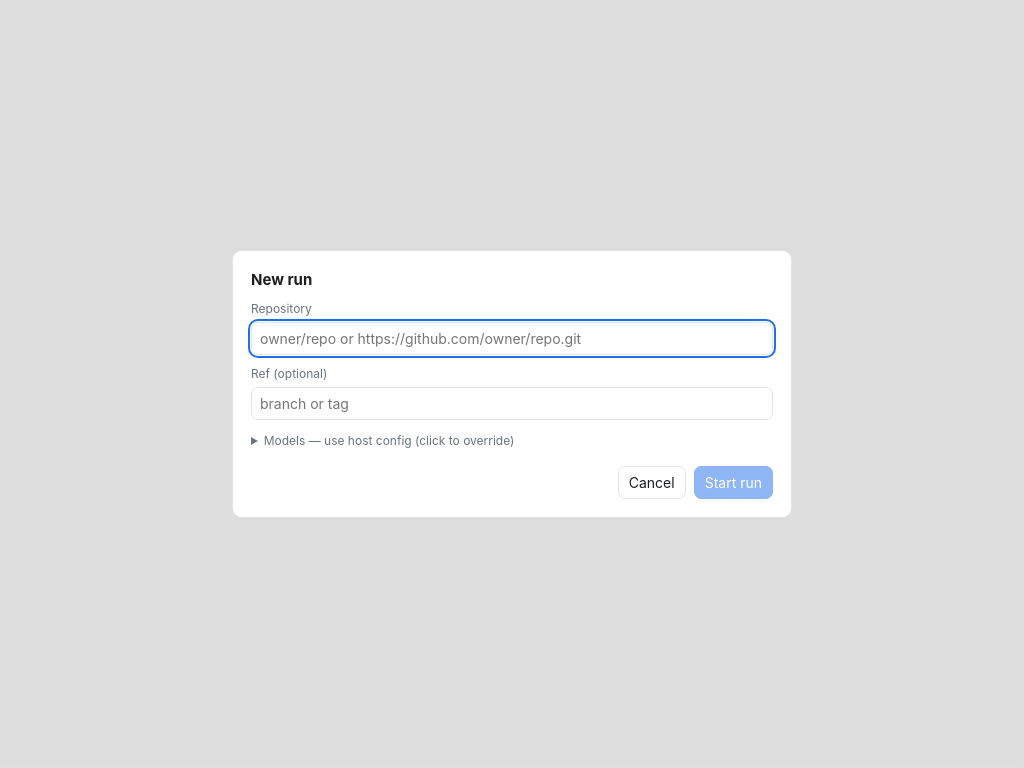
Test: NewRunModal › renders a distinct message for a 422 response
Type "octocat/Hello-World" into the field with placeholder "owner/repo or https://github.com/owner/repo.git" at x=512, y=338, box [251, 322, 773, 355]
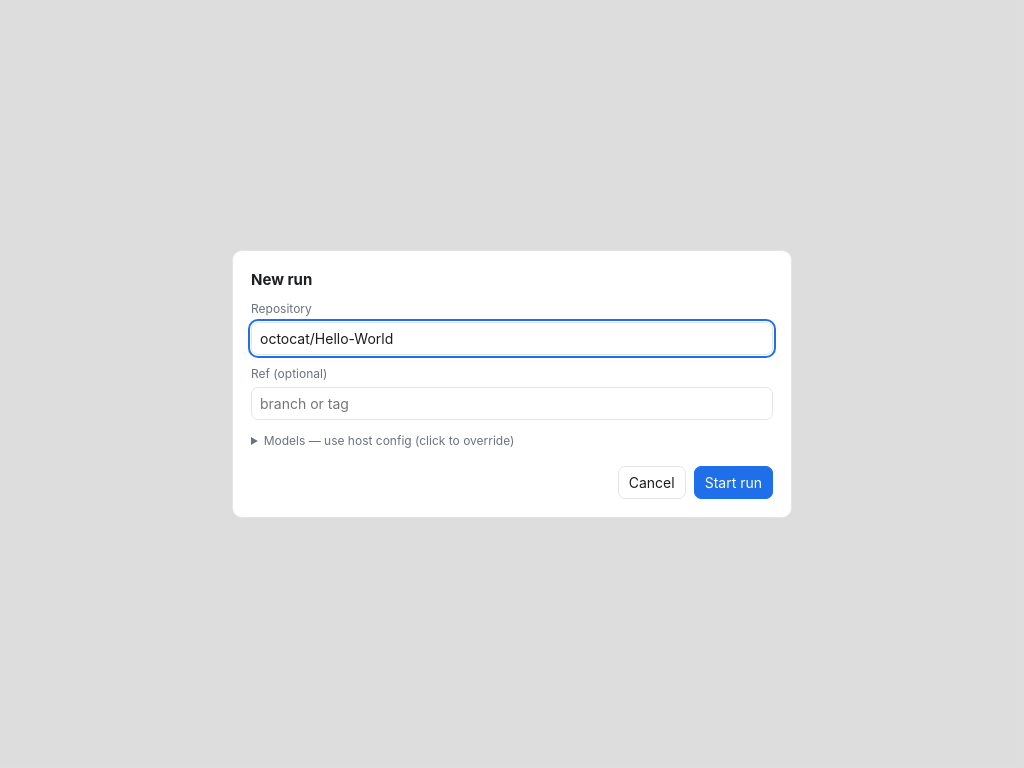
Click the button "Start run" at x=733, y=482, box [694, 466, 773, 499]
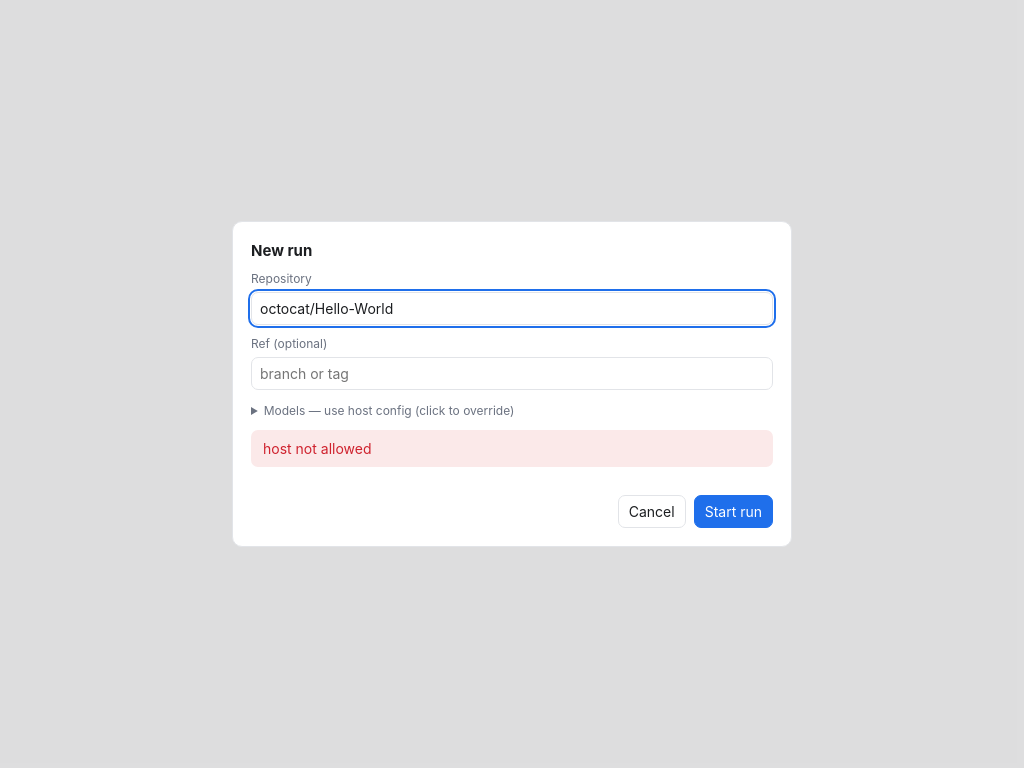
Expected: the text "host not allowed" is shown, [251, 430, 773, 467]
